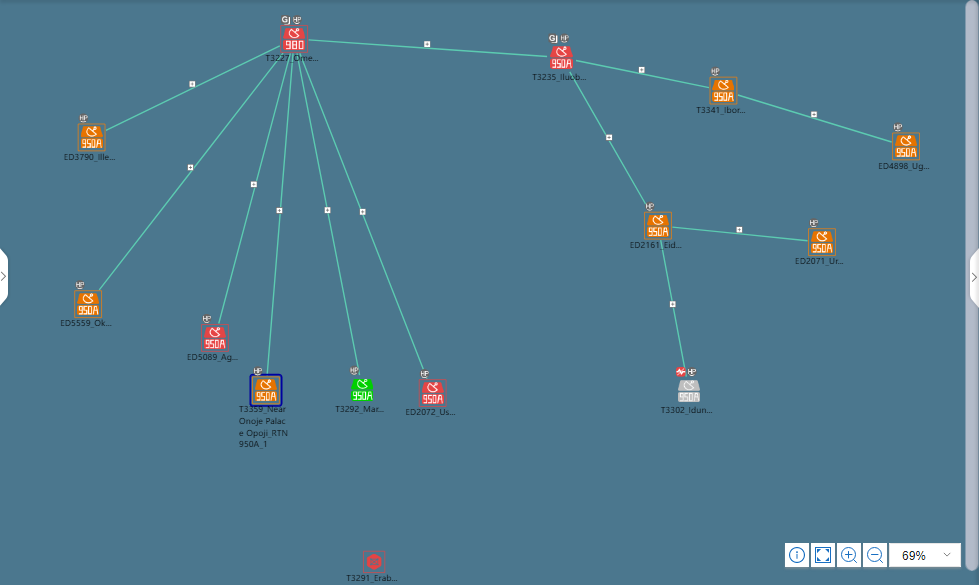Link_Blue: (101, 51, 281, 283), (303, 71, 421, 366), (297, 74, 363, 380), (217, 63, 285, 315), (107, 45, 275, 126), (566, 69, 650, 207), (743, 94, 895, 147), (266, 57, 292, 349), (327, 39, 552, 62), (578, 57, 711, 92), (658, 240, 684, 366), (719, 228, 809, 245)
RTN_Gray: (676, 381, 699, 404)
RTN_Green: (352, 381, 375, 404)
RTN_Orange: (76, 124, 106, 153), (76, 289, 99, 319), (890, 136, 919, 159), (646, 216, 675, 237), (811, 228, 832, 257), (254, 375, 277, 401), (713, 81, 734, 103)
RTN_Red: (548, 45, 577, 74), (419, 381, 448, 410), (278, 26, 306, 55), (205, 326, 228, 355)
